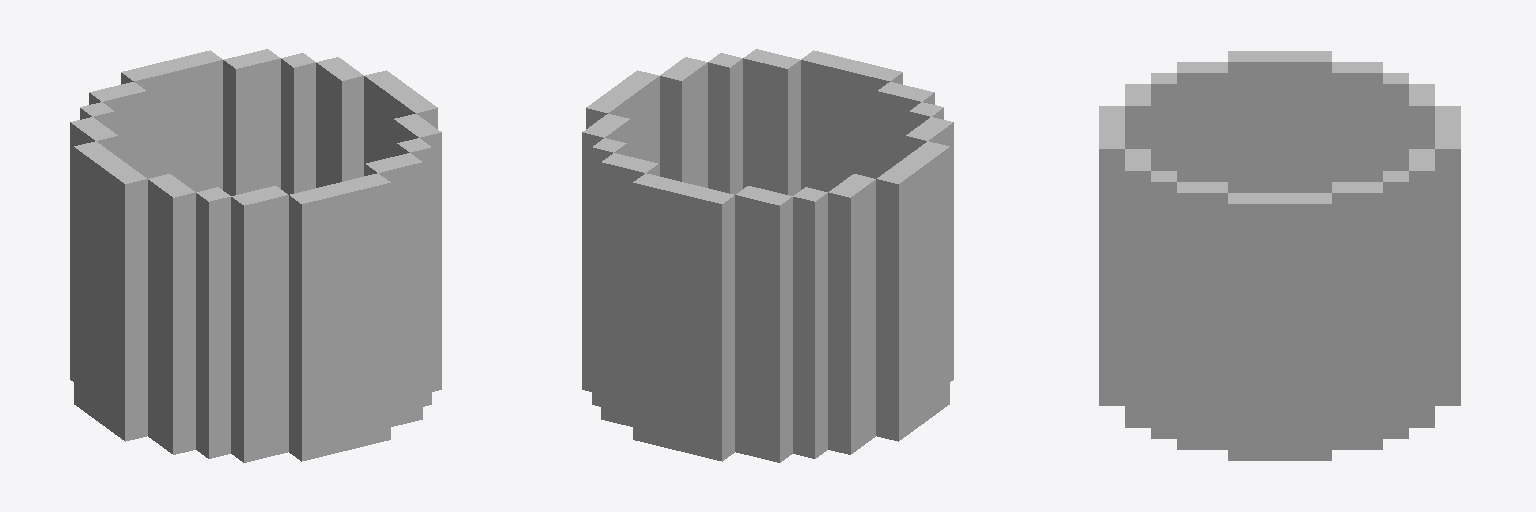
File: clothing_dye_machine.obj
The picture shows the model from 3 angles: view 1: azimuth 30°, elevation 25°; view 2: azimuth 150°, elevation 25°; view 3: azimuth 270°, elevation 25°; orthographic projection.
Visible parts, largest first — view 1: node_0_0_0; view 2: node_0_0_0; view 3: node_0_0_0.
Part boxes in pixels (bbox=[...]): node_0_0_0: bbox=[70, 49, 441, 462]; node_0_0_0: bbox=[582, 49, 953, 462]; node_0_0_0: bbox=[1099, 51, 1460, 460].
Size of the model in its own units: 0.875 by 0.6875 by 0.875.